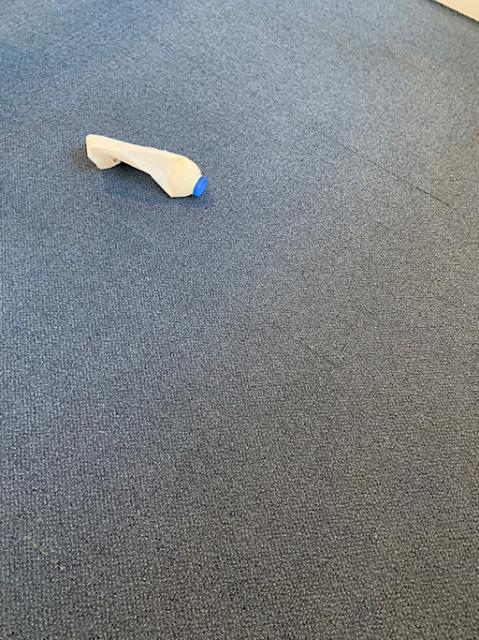plastic: (85, 133, 205, 195)
